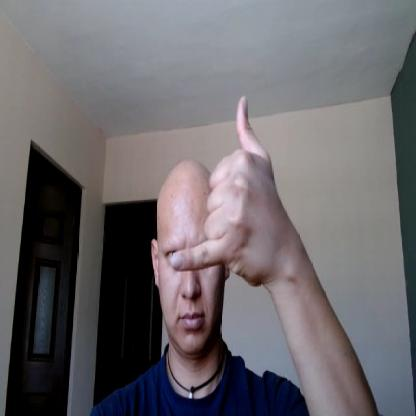Y: (172, 94, 279, 284)
